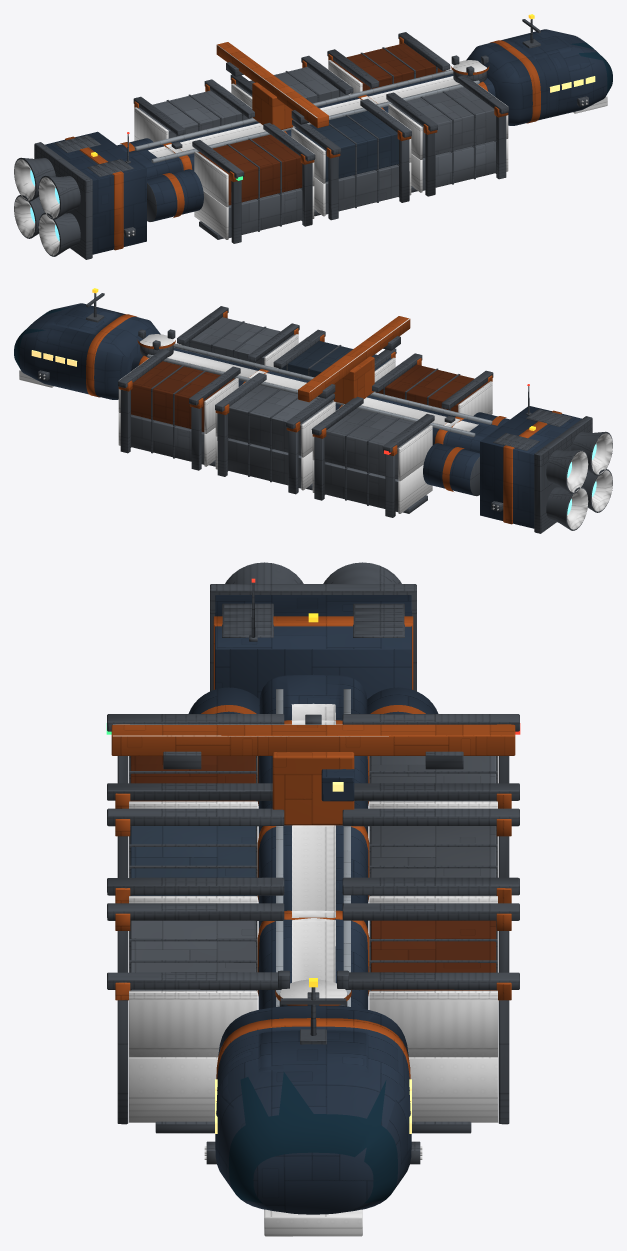
Rendered from atlas_production_v1_lod1.glb.
3 views of the same model, one above another, from view 1: azimuth 30°, elevation 25°; view 2: azimuth 150°, elevation 25°; view 3: azimuth 270°, elevation 25° (orthographic). The views are drawn at different scales.
Parts seen in each view (by area): view 1: LOD0_Mechanical, LOD0_Hull, LOD0_Armor, LOD0_MechanicalDark, LOD0_Armor_orange, LOD0_Armor_navy, LOD0_HOOK_SECONDARY_CRANE_Warning, LOD0_Livery, LOD0_BrushedMetal, LOD0_Warning, LOD0_CANOPY; view 2: LOD0_Mechanical, LOD0_Hull, LOD0_Armor, LOD0_MechanicalDark, LOD0_Armor_orange, LOD0_HOOK_SECONDARY_CRANE_Warning, LOD0_Livery, LOD0_BrushedMetal, LOD0_Armor_navy, LOD0_Warning; view 3: LOD0_Mechanical, LOD0_Hull, LOD0_MechanicalDark, LOD0_HOOK_SECONDARY_CRANE_Warning, LOD0_Armor, LOD0_CANOPY, LOD0_Armor_orange, LOD0_Armor_navy, LOD0_Livery, LOD0_Warning, LOD0_BrushedMetal, LOD0_HOOK_SECONDARY_CRANE_Mechanical (+2 smaller).
Boxes of the visible parts, x1=… form: LOD0_Mechanical: x1=14, y1=32, x2=588, y2=259; LOD0_Hull: x1=45, y1=29, x2=607, y2=254; LOD0_Armor: x1=138, y1=67, x2=495, y2=237; LOD0_MechanicalDark: x1=14, y1=39, x2=607, y2=255; LOD0_Armor_orange: x1=198, y1=43, x2=445, y2=205; LOD0_Armor_navy: x1=295, y1=111, x2=398, y2=181; LOD0_HOOK_SECONDARY_CRANE_Warning: x1=216, y1=42, x2=328, y2=129; LOD0_Livery: x1=65, y1=40, x2=540, y2=250; LOD0_BrushedMetal: x1=134, y1=69, x2=479, y2=163; LOD0_Warning: x1=134, y1=37, x2=508, y2=181; LOD0_CANOPY: x1=571, y1=42, x2=612, y2=95; LOD0_Mechanical: x1=38, y1=306, x2=612, y2=533; LOD0_Hull: x1=17, y1=303, x2=581, y2=528; LOD0_Armor: x1=131, y1=317, x2=428, y2=511; LOD0_MechanicalDark: x1=19, y1=313, x2=612, y2=529; LOD0_Armor_orange: x1=131, y1=361, x2=488, y2=431; LOD0_HOOK_SECONDARY_CRANE_Warning: x1=298, y1=316, x2=410, y2=403; LOD0_Livery: x1=86, y1=314, x2=561, y2=524; LOD0_BrushedMetal: x1=147, y1=343, x2=492, y2=437; LOD0_Armor_navy: x1=278, y1=341, x2=391, y2=377; LOD0_Warning: x1=118, y1=311, x2=492, y2=455; LOD0_Mechanical: x1=107, y1=562, x2=519, y2=1164; LOD0_Hull: x1=188, y1=595, x2=438, y2=1214; LOD0_MechanicalDark: x1=129, y1=703, x2=497, y2=1236; LOD0_HOOK_SECONDARY_CRANE_Warning: x1=111, y1=724, x2=515, y2=825; LOD0_Armor: x1=130, y1=756, x2=496, y2=990; LOD0_CANOPY: x1=229, y1=1071, x2=397, y2=1203; LOD0_Armor_orange: x1=130, y1=756, x2=496, y2=990; LOD0_Armor_navy: x1=130, y1=826, x2=255, y2=895; LOD0_Livery: x1=201, y1=616, x2=425, y2=1079; LOD0_Warning: x1=115, y1=724, x2=511, y2=1005; LOD0_BrushedMetal: x1=276, y1=689, x2=350, y2=1006; LOD0_HOOK_SECONDARY_CRANE_Mechanical: x1=163, y1=751, x2=463, y2=769.
Size of what is drawn, in the model's own units: 23.72 by 4.48 by 7.58.
Materials: 15 (9 with a texture image).
